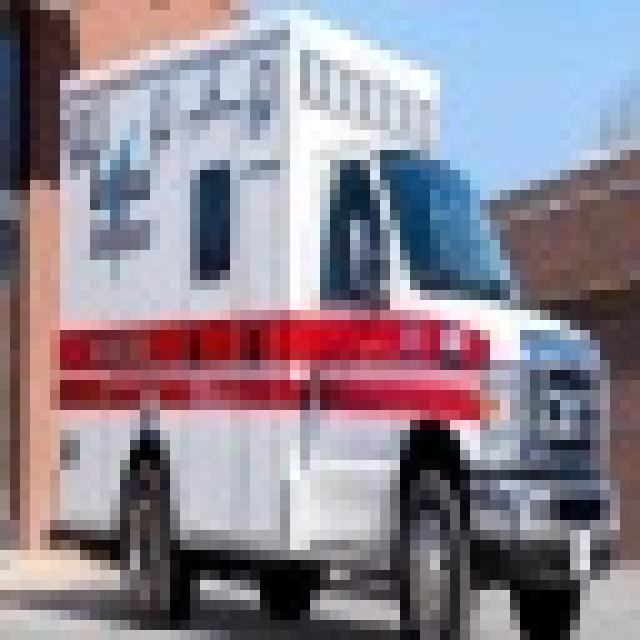Ambulance: (30, 0, 620, 630)
